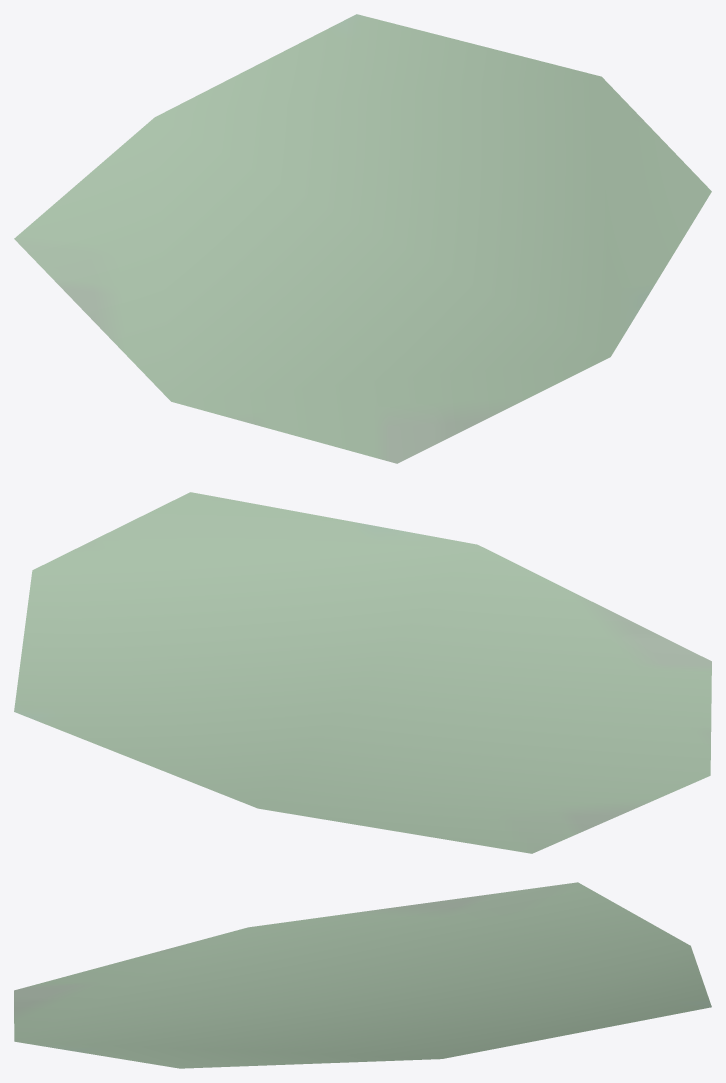
Rendered from TROLLHOLE02_HOLECAP193.fbx.
3 renders of one model, top to bottom at view 1: azimuth 30°, elevation 25°; view 2: azimuth 150°, elevation 25°; view 3: azimuth 270°, elevation 25°, orthographic. The views are drawn at different scales.
Visible parts, largest first — view 1: TROLLHOLE02_HOLECAP193; view 2: TROLLHOLE02_HOLECAP193; view 3: TROLLHOLE02_HOLECAP193.
Boxes of the visible parts, left/top/right/bottom form: TROLLHOLE02_HOLECAP193: left=14, top=14, right=711, bottom=463; TROLLHOLE02_HOLECAP193: left=14, top=492, right=711, bottom=853; TROLLHOLE02_HOLECAP193: left=14, top=882, right=711, bottom=1068.
Bounding box in the file's own units: 11427 × 2800 × 12776.
Materials: 1 (1 with a texture image).
